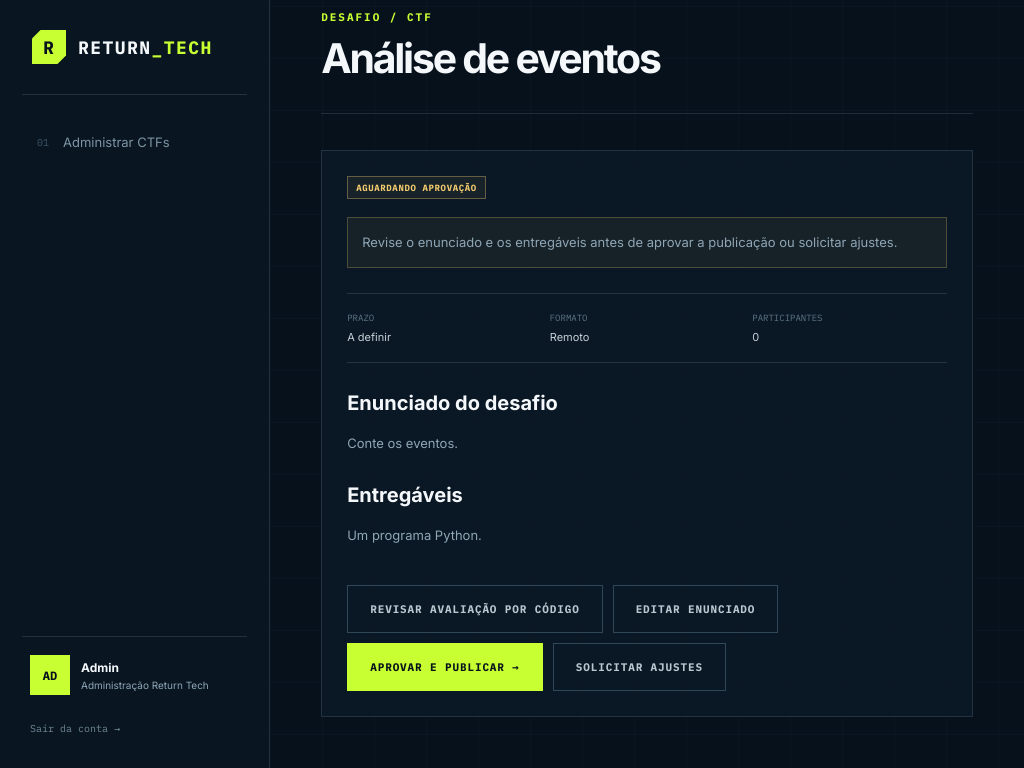
Test case: integration with existing project flows › announces a rejected approval and allows another attempt without publishing
The width and height of the screenshot is (1024, 768).
(page scrolled)
Click the button "APROVAR E PUBLICAR →": (445, 667) [347,643,543,691]
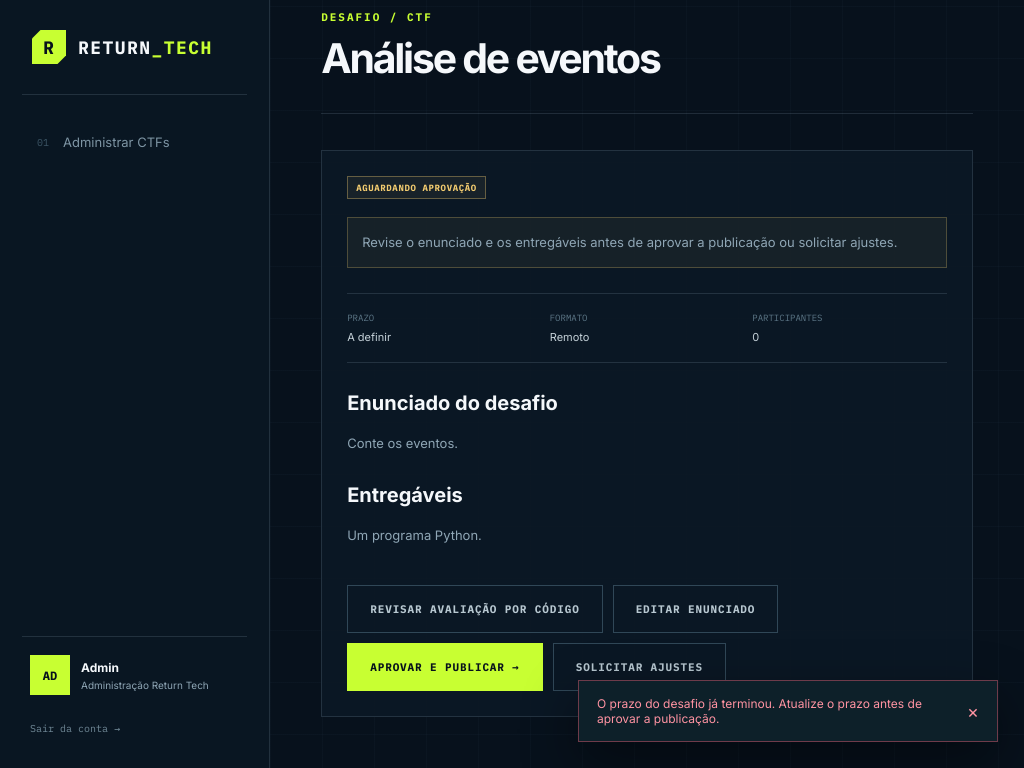
Expected: the text "Aguardando aprovação" is shown, [347,176,486,199]
Result: the message named "Erro na operação" shows "O prazo do desafio já terminou." at [597,696,922,726]
